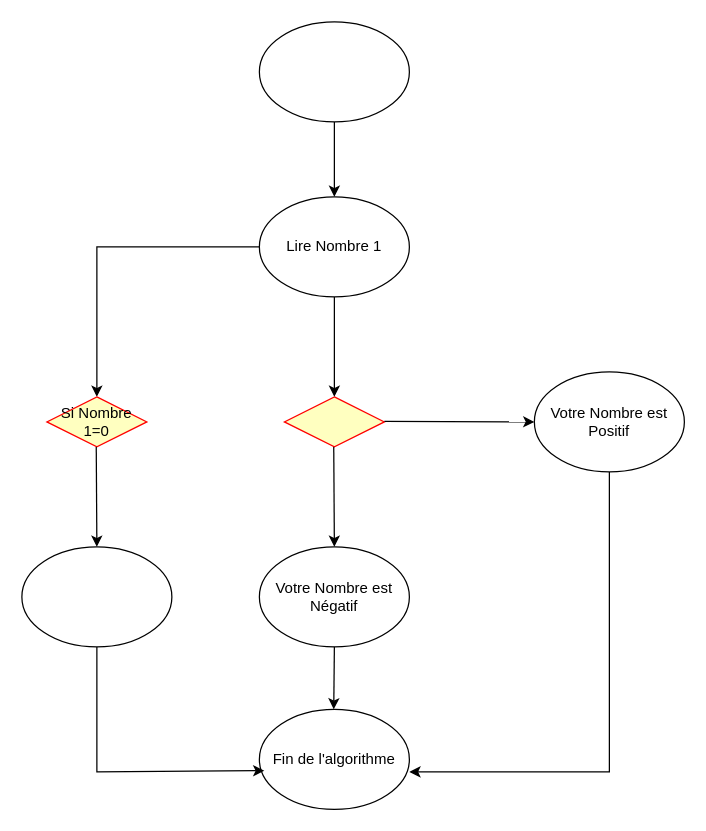
Some shapes in this 706 by 831 pixel diagram are drawn without their labels. Each missing label, with the box of its shape:
Saisir le Nombre: (258, 21, 409, 122)
Si Nombre 1>0: (283, 396, 384, 447)
Vous avez entré 0: (21, 546, 172, 647)
